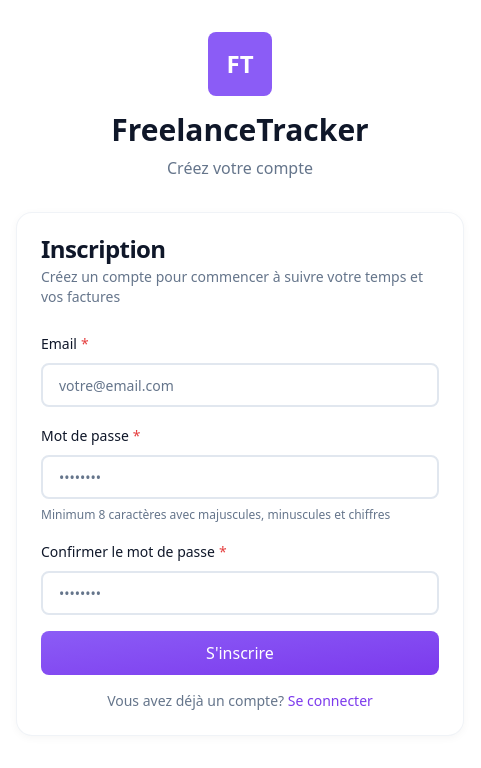
Register page › shows submit error when signUp fails
Type "user@example.com" into the field labelled "Email*" at (240, 385), box [41, 363, 439, 407]
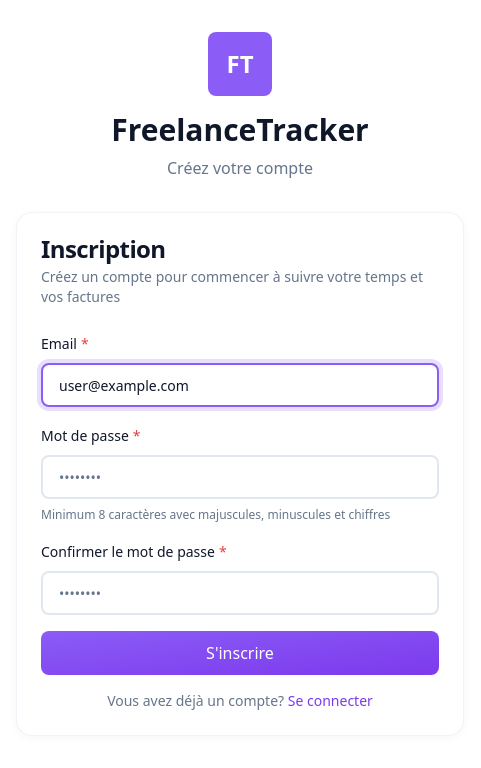
Type "Password123" into the password field labelled "Mot de passe*" at (240, 477), box [41, 455, 439, 499]
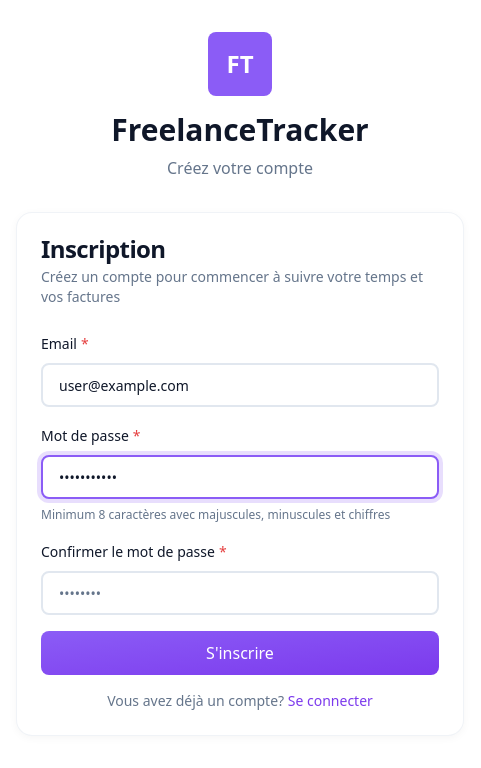
Type "Password123" into the password field labelled "Confirmer le mot de passe*" at (240, 593), box [41, 571, 439, 615]
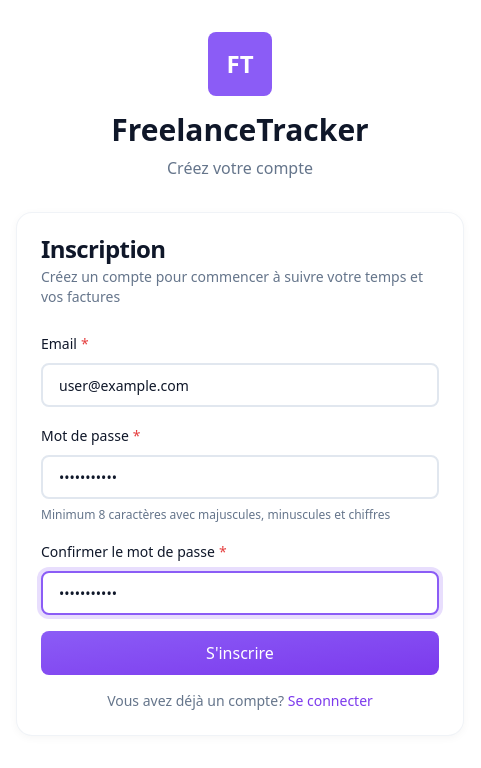
Click the button "S'inscrire" at (240, 653), box [41, 631, 439, 675]
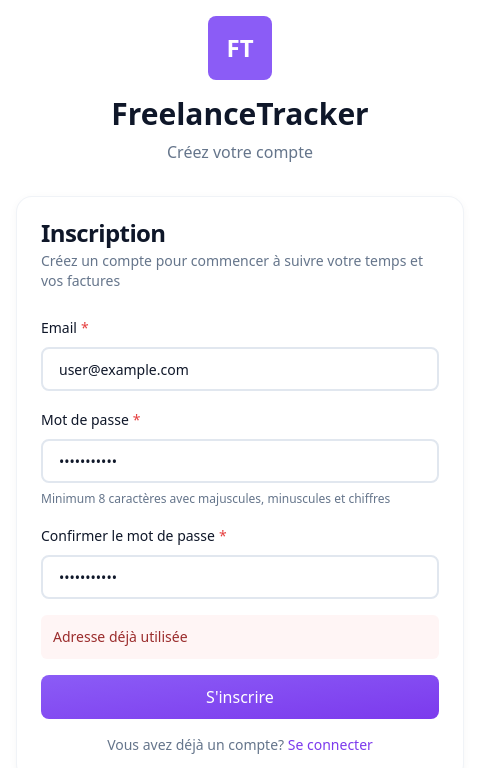
Expected: the text "Adresse déjà utilisée" is shown, [41, 615, 439, 659]
